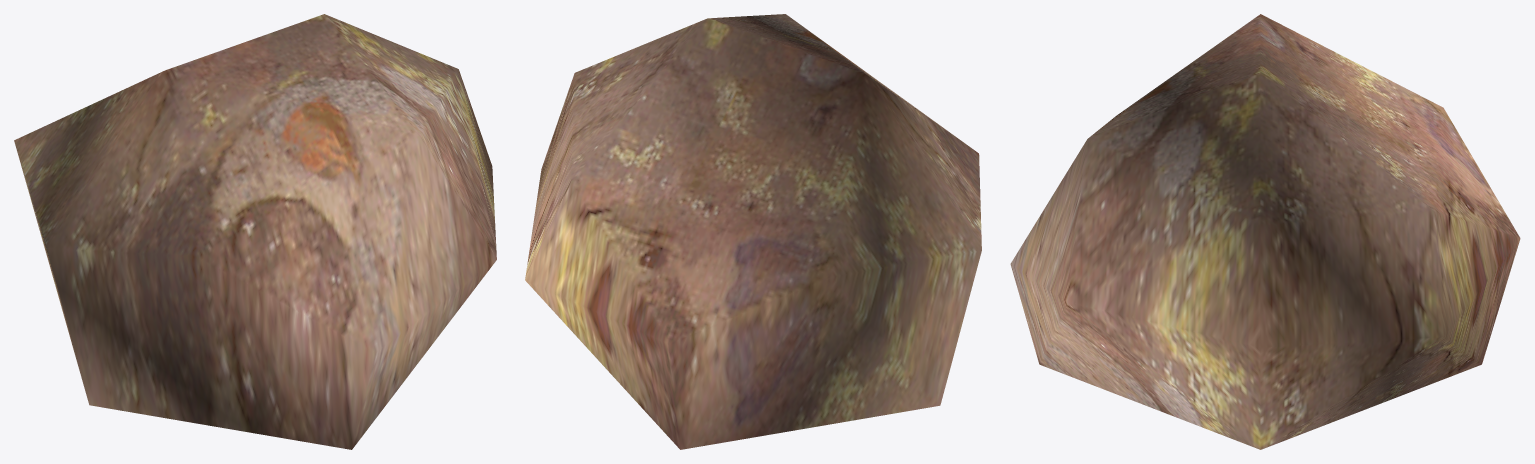
The model's file is rock1.fbx.
The picture shows the model from 3 angles, left to right: view 1: azimuth 30°, elevation 25°; view 2: azimuth 150°, elevation 25°; view 3: azimuth 270°, elevation 25°; orthographic projection.
Visible parts, largest first — view 1: rock1; view 2: rock1; view 3: rock1.
Part boxes in pixels (left/top/right/bottom): rock1: left=14, top=14, right=496, bottom=449; rock1: left=525, top=14, right=981, bottom=449; rock1: left=1010, top=14, right=1520, bottom=449.
Size of the model in its own units: 10600 by 7600 by 10600.
